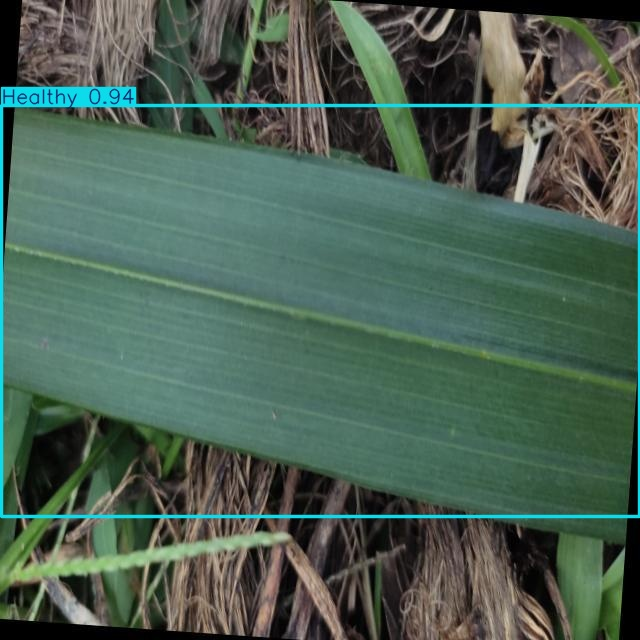Healthy: (2, 105, 639, 516)
